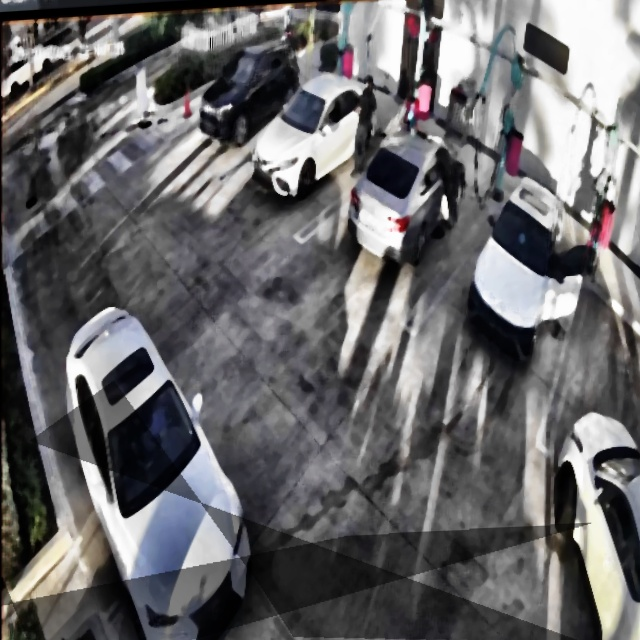Car: (60, 291, 254, 640), (472, 179, 590, 372), (350, 121, 466, 272), (252, 71, 378, 191)
